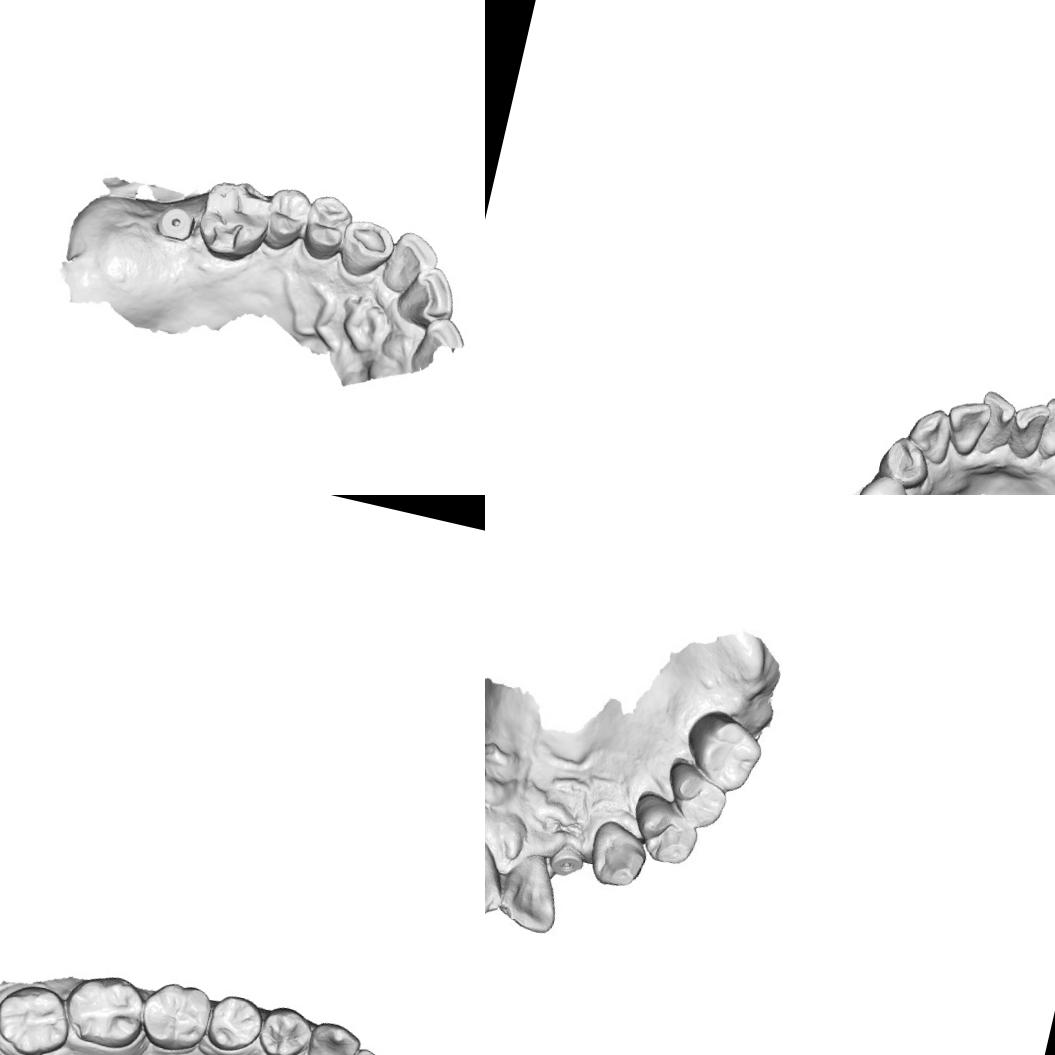canine: (582, 815, 654, 894), (335, 215, 399, 284), (902, 402, 957, 466), (299, 1017, 363, 1055)
implant: (154, 202, 198, 244), (551, 843, 585, 882)
incisor: (497, 847, 567, 940), (392, 260, 464, 334), (379, 227, 444, 300), (940, 395, 994, 460), (970, 388, 1019, 458), (485, 827, 519, 927), (1004, 397, 1053, 462), (1034, 395, 1055, 466)
molar: (676, 700, 772, 798), (57, 965, 151, 1054), (192, 173, 280, 268), (133, 975, 217, 1055), (0, 976, 78, 1055)
premolar: (656, 756, 732, 832), (630, 792, 702, 868), (199, 986, 268, 1055), (298, 192, 356, 266), (260, 183, 312, 255), (874, 432, 936, 492), (253, 999, 318, 1055), (850, 469, 916, 495)
